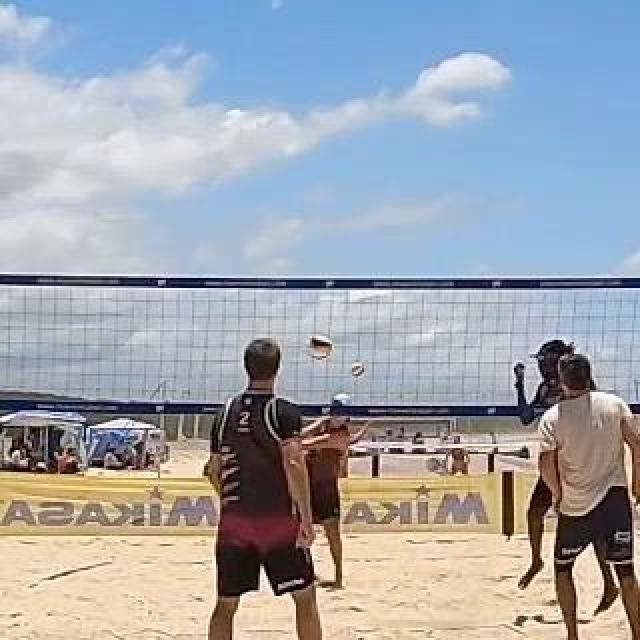volleyball: (307, 335, 331, 361), (351, 363, 365, 377)
